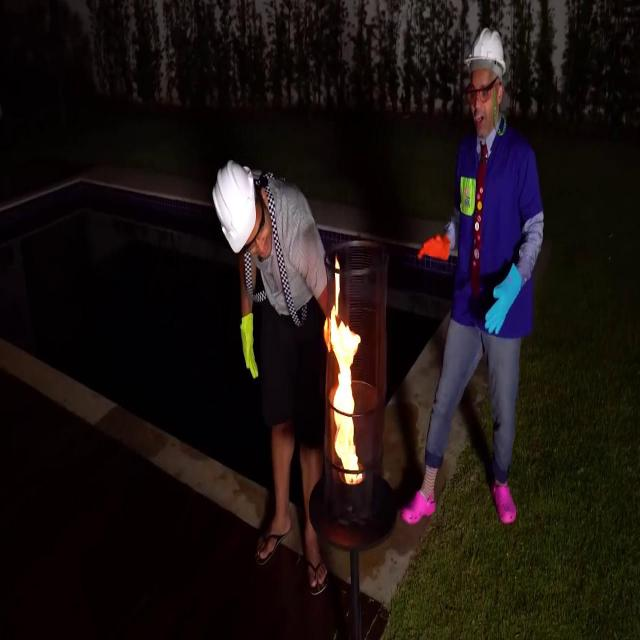fire: (321, 260, 373, 490)
